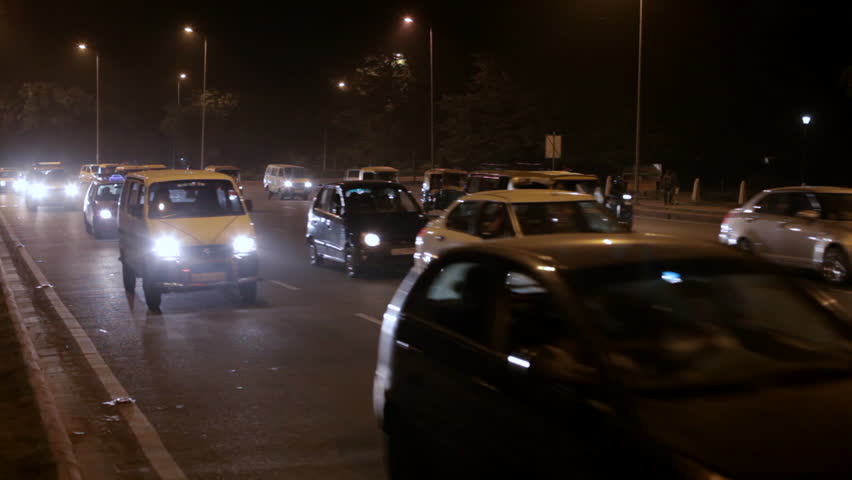car: (392, 253, 836, 480), (120, 176, 261, 312), (419, 193, 603, 270), (723, 184, 852, 275), (310, 180, 421, 275), (26, 167, 79, 217), (88, 180, 125, 234), (264, 162, 311, 203)
